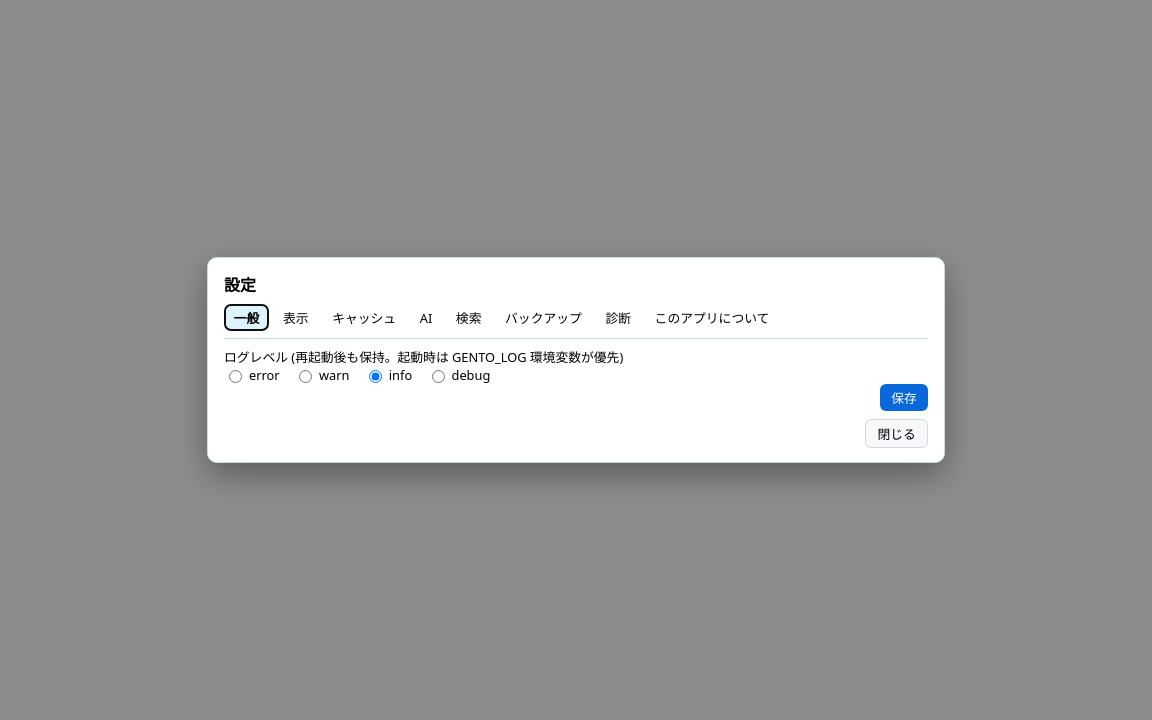
Test: SettingsDialog › キャッシュタブ: 削除は確認なしに実行されず、確認後のみ実行される
Click the tab "キャッシュ".
click(364, 318)  # box [322,304,406,332]
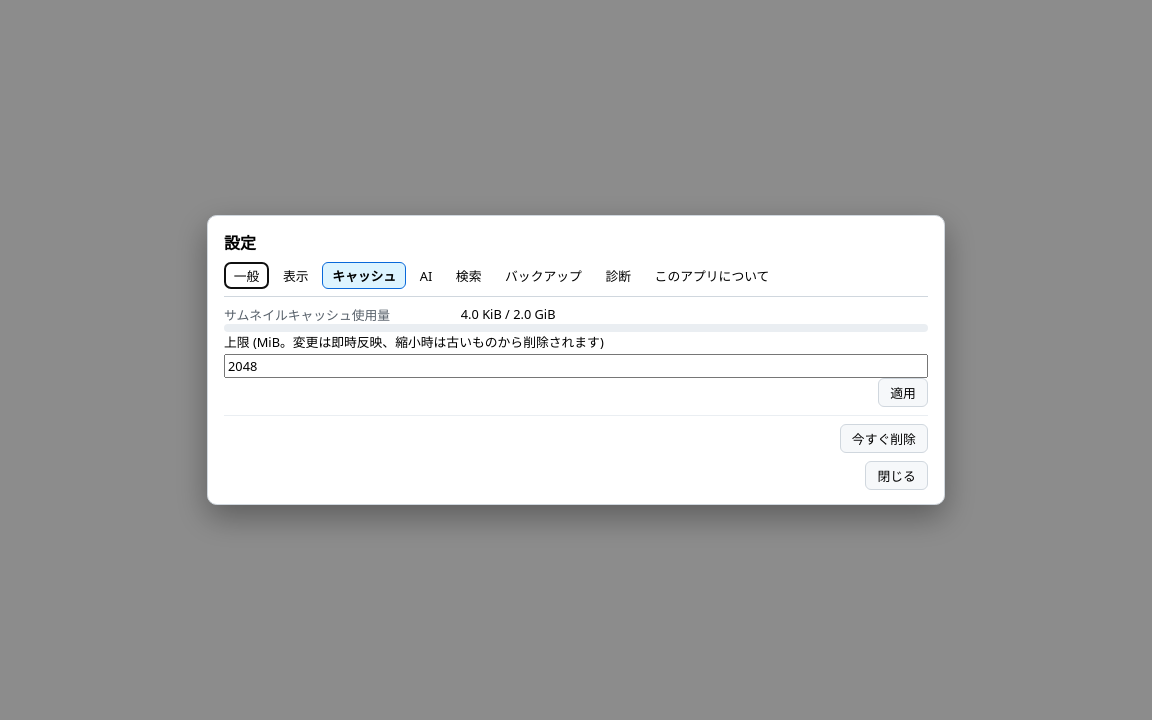
Now the text with test id "cache-usage" shows "4.0 KiB", box [461,305,556,323]
Now the text with test id "cache-usage" shows "2.0 GiB", box [461,305,556,323]
Now the button with test id "cache-clear-button" is shown
Click the button with test id "cache-clear-button".
click(884, 438)  # box [840,424,928,453]
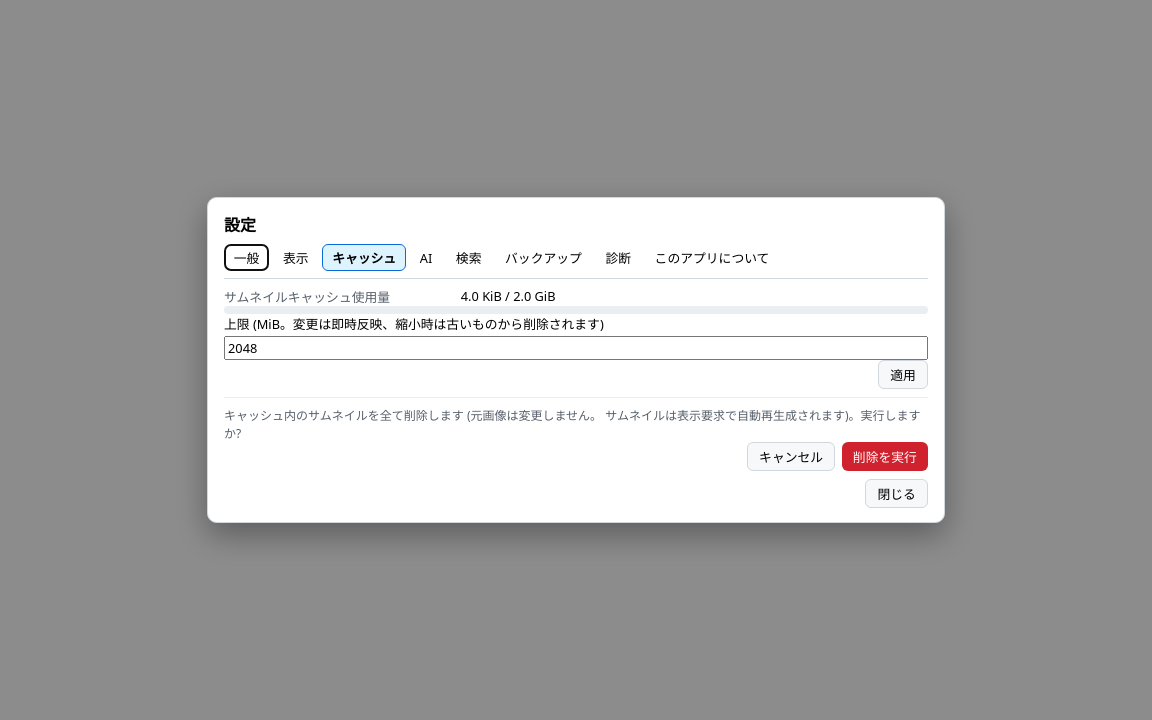
Now the text with test id "cache-clear-confirm" is shown, box [224,406,928,442]
Now the button with test id "cache-clear-execute" is shown
Click the button with test id "cache-clear-execute".
click(885, 456)  # box [842,442,928,471]
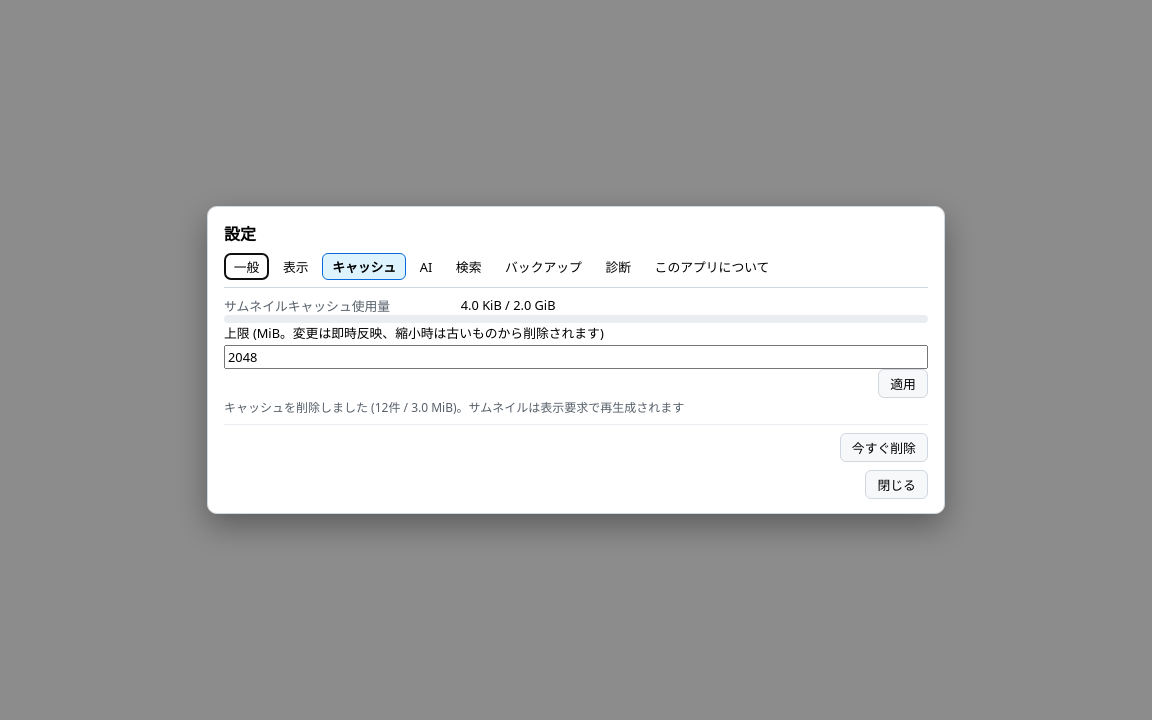
Now the text with test id "cache-notice" shows "12", box [224,399,684,416]
